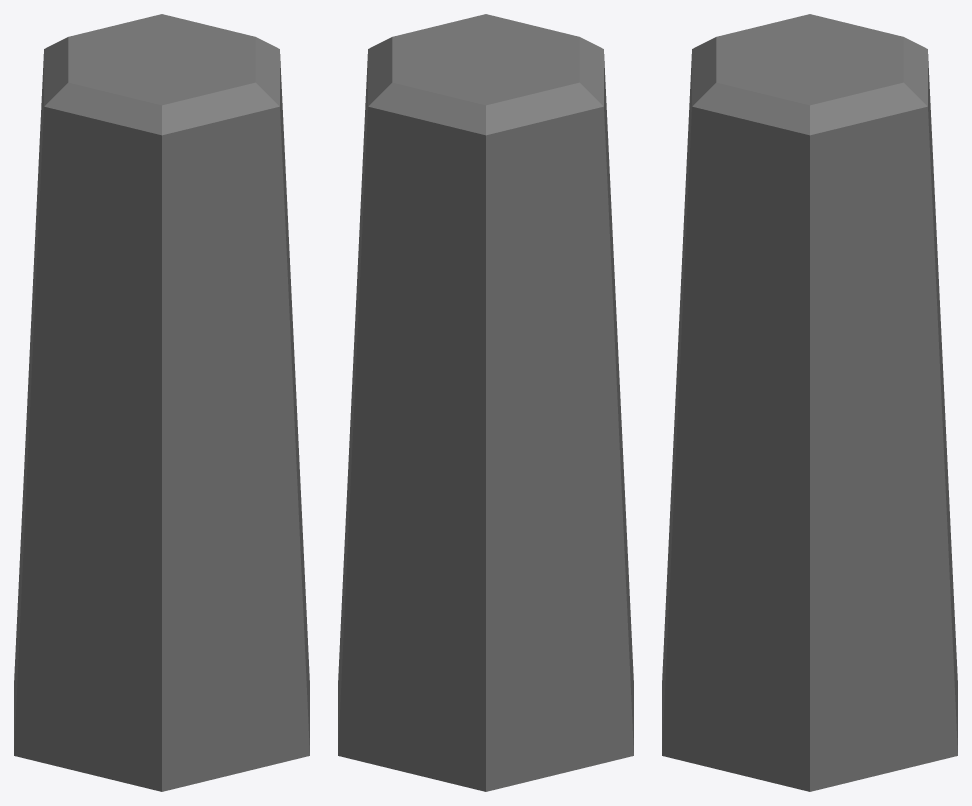
The model's file is rock14.fbx.
The picture shows the model from 3 angles, left to right: view 1: azimuth 30°, elevation 25°; view 2: azimuth 150°, elevation 25°; view 3: azimuth 270°, elevation 25°; orthographic projection.
Parts seen in each view (by area): view 1: rock19; view 2: rock19; view 3: rock19.
Boxes of the visible parts, x1,y1,x2,y2 form: rock19: [14, 14, 309, 791]; rock19: [338, 14, 633, 791]; rock19: [662, 14, 957, 791].
Size of the model in its own units: 1529 by 3259 by 1324.
1 material, 1 textured.
